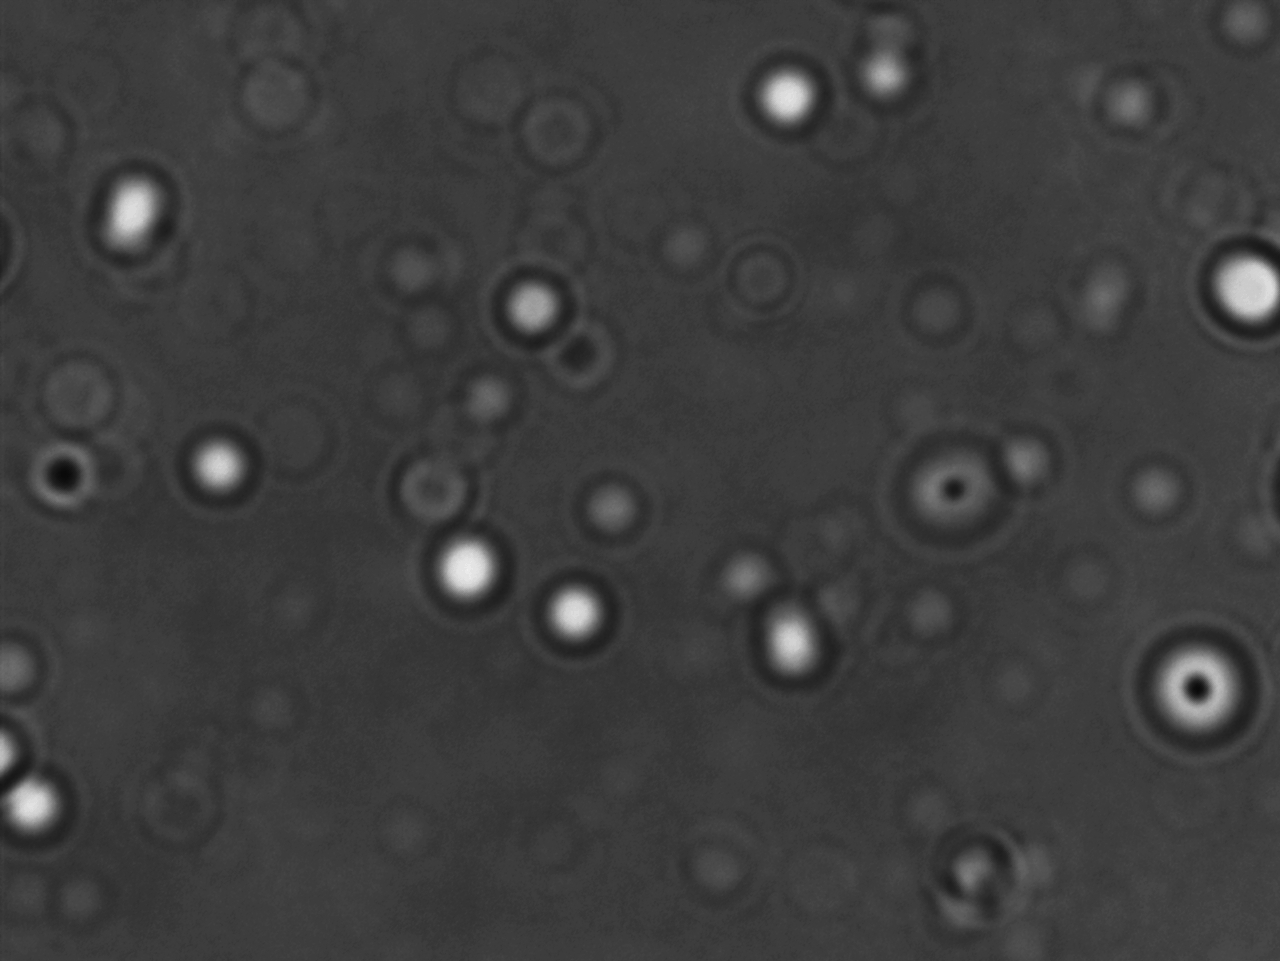depth:24: (1133, 611, 1275, 755)
